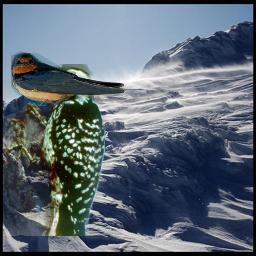Swallow: (8, 50, 148, 106)
Woodpecker: (3, 64, 105, 236)
